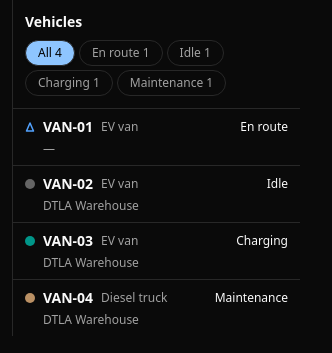
Scenario: VehicleList › filters by status with pressed toggle buttons
Click the button "Charging 1" at coordinates (69, 83), box [25,70,113,96]
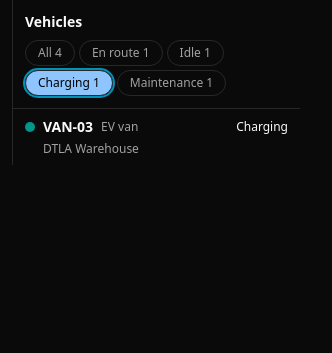
Expected: the list item shows "VAN-03", [13,109,300,165]
Result: the number of list items is 1 at [13,109,300,165]
